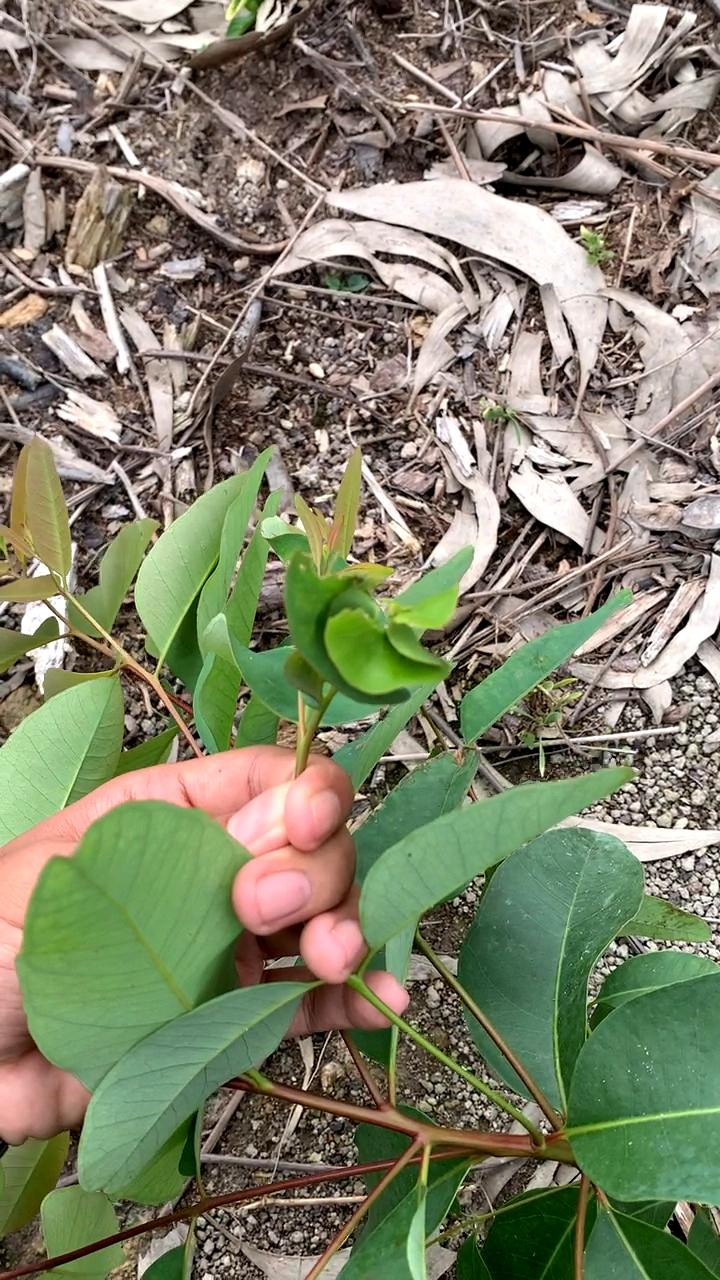Leaf Roller - Leaf: (279, 516, 470, 748)
